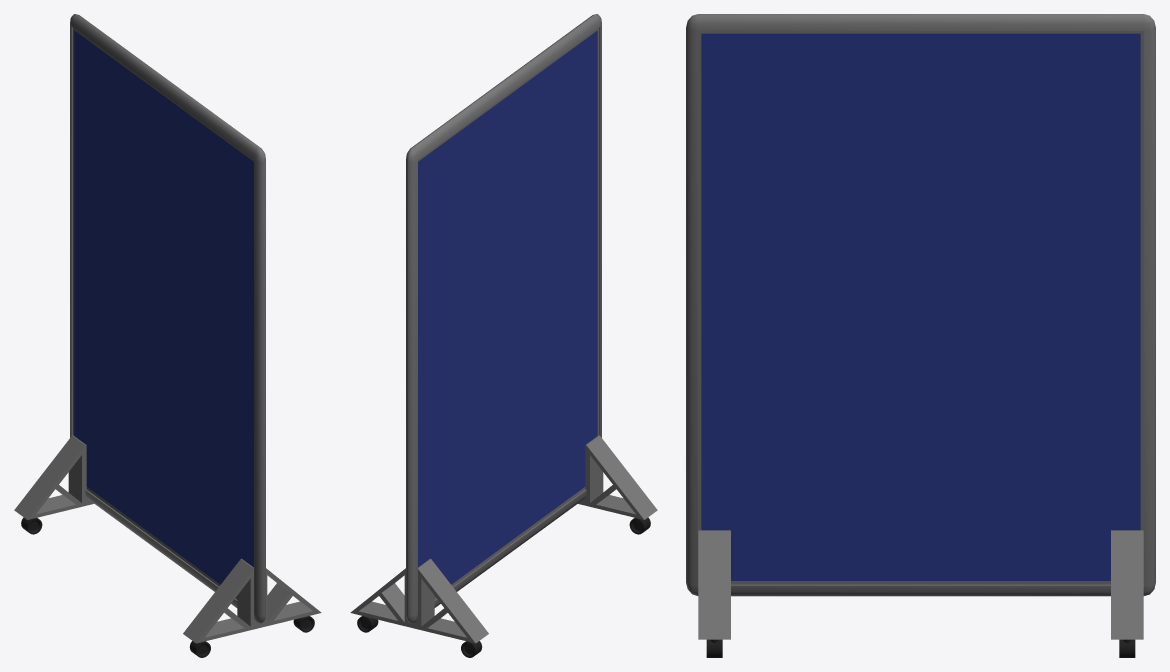
File: BlueBoard.fbx
3 views of the same model, side by side, from view 1: azimuth 30°, elevation 25°; view 2: azimuth 150°, elevation 25°; view 3: azimuth 270°, elevation 25° (orthographic). The views are drawn at different scales.
Parts seen in each view (by area): view 1: BlueBoard; view 2: BlueBoard; view 3: BlueBoard.
Part boxes in pixels (<box>): BlueBoard: <box>14,14,321,657</box>; BlueBoard: <box>350,14,657,657</box>; BlueBoard: <box>686,14,1155,657</box>.
Size of the model in its own units: 75.59 by 287 by 200.
